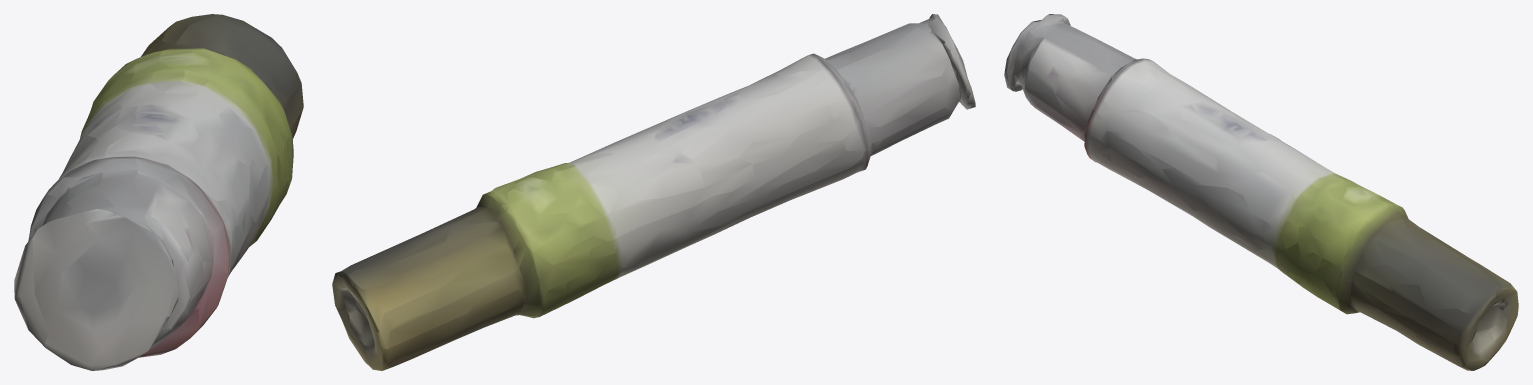
Rendered from 0008_mask_009_black_marker.glb.
The picture shows the model from 3 angles, left to right: view 1: azimuth 30°, elevation 25°; view 2: azimuth 150°, elevation 25°; view 3: azimuth 270°, elevation 25°; orthographic projection. The views are drawn at different scales.
Visible parts, largest first — view 1: mask_009_object; view 2: mask_009_object; view 3: mask_009_object.
Boxes of the visible parts, <box> form: mask_009_object: <box>14,14,303,370</box>; mask_009_object: <box>332,14,975,370</box>; mask_009_object: <box>1004,14,1518,370</box>.
Bounding box in the file's own units: 0.1627 × 0.0928 × 0.202.
